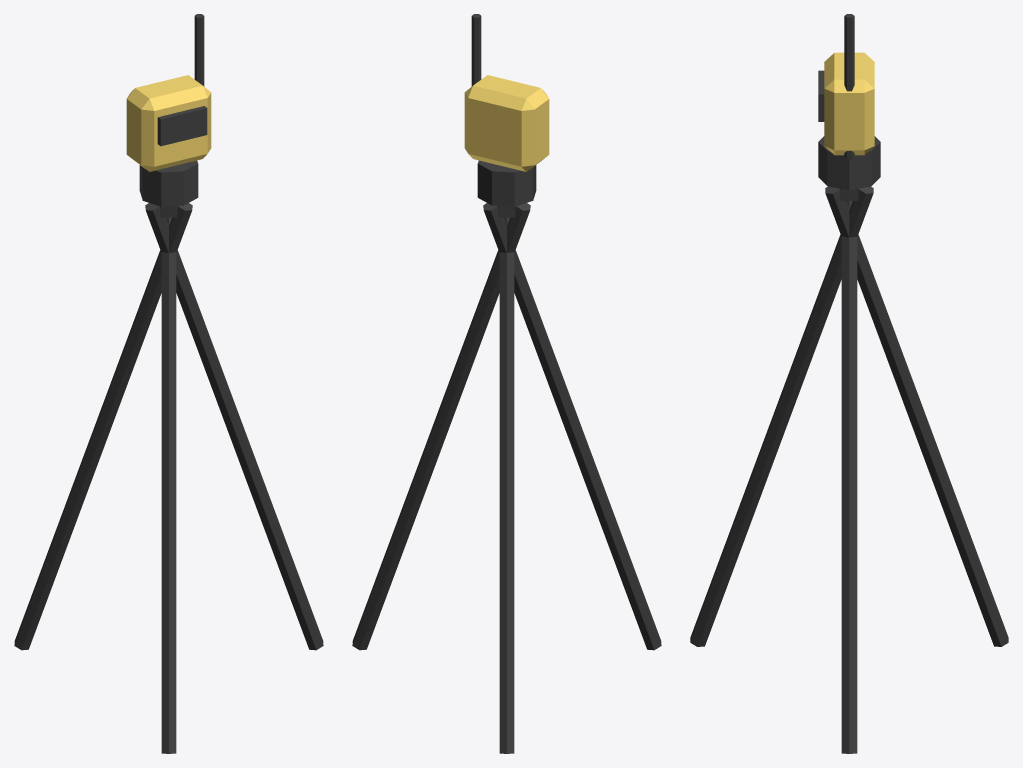
The picture shows the model from 3 angles, left to right: view 1: azimuth 30°, elevation 25°; view 2: azimuth 150°, elevation 25°; view 3: azimuth 270°, elevation 25°; orthographic projection. The views are drawn at different scales.
Parts seen in each view (by area): view 1: Leg.002, Leg, Leg.001, Meter, Mount, Readout, Probe; view 2: Leg.001, Leg, Leg.002, Meter, Mount, Probe; view 3: Leg, Leg.001, Leg.002, Meter, Mount, Probe.
Part boxes in pixels (x1=…): Leg.002: x1=161, y1=217, x2=176, y2=753; Leg: x1=145, y1=203, x2=323, y2=650; Leg.001: x1=14, y1=203, x2=192, y2=650; Meter: x1=126, y1=75, x2=211, y2=171; Mount: x1=139, y1=160, x2=198, y2=206; Readout: x1=157, y1=106, x2=207, y2=146; Probe: x1=194, y1=14, x2=204, y2=86; Leg.001: x1=499, y1=217, x2=514, y2=753; Leg: x1=352, y1=203, x2=530, y2=650; Leg.002: x1=483, y1=203, x2=661, y2=650; Meter: x1=464, y1=75, x2=549, y2=171; Mount: x1=477, y1=160, x2=536, y2=206; Probe: x1=471, y1=14, x2=481, y2=86; Leg: x1=841, y1=201, x2=857, y2=753; Leg.001: x1=825, y1=186, x2=1008, y2=646; Leg.002: x1=690, y1=186, x2=873, y2=646; Meter: x1=824, y1=52, x2=874, y2=155; Mount: x1=818, y1=136, x2=880, y2=190; Probe: x1=844, y1=14, x2=854, y2=158.
Bounding box in the file's own units: 50.33 × 135 × 57.25.
